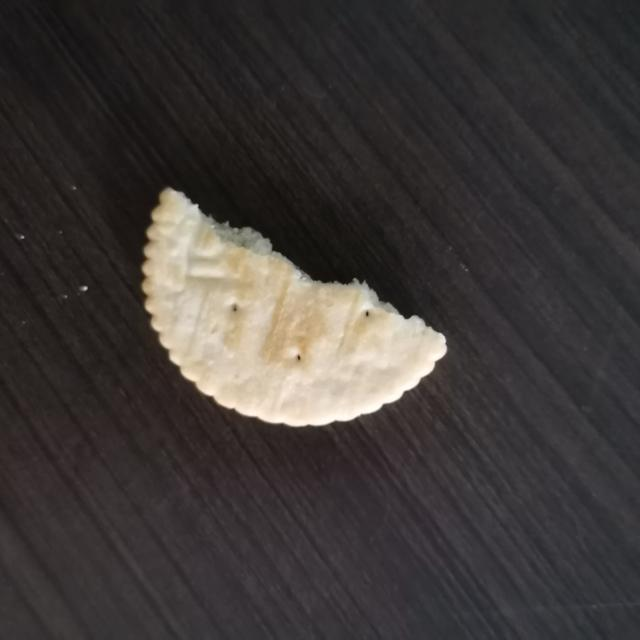Broken: (139, 185, 448, 428)
